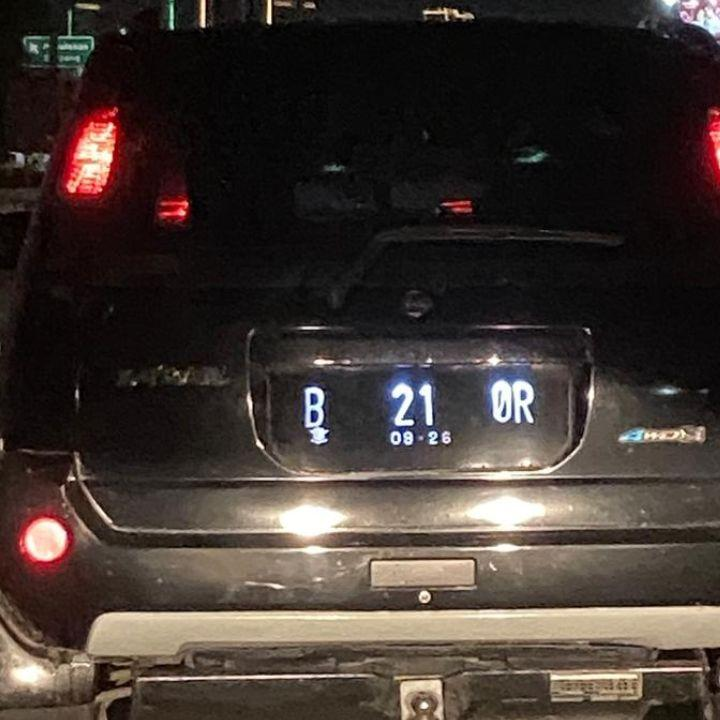plat: (294, 377, 540, 450)
